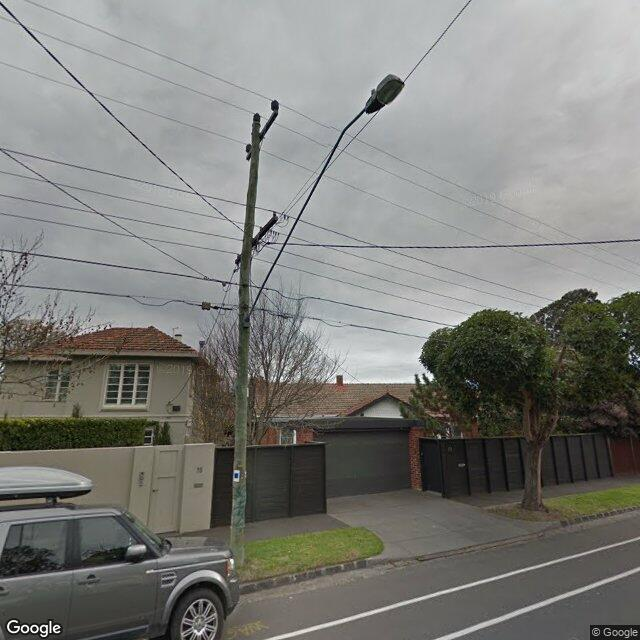HV-transmission: (246, 100, 279, 152)
crossarm: (235, 216, 278, 265), (246, 110, 278, 161)
streetlight: (244, 75, 404, 322)
timber-pole: (229, 122, 260, 569)
